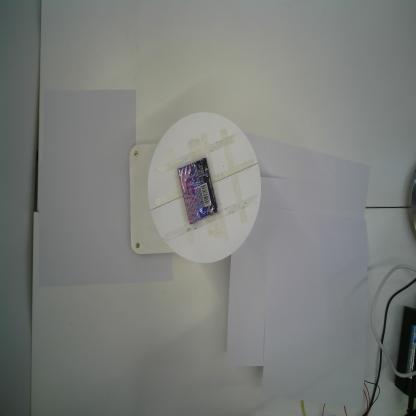Gum: (178, 157, 220, 225)
